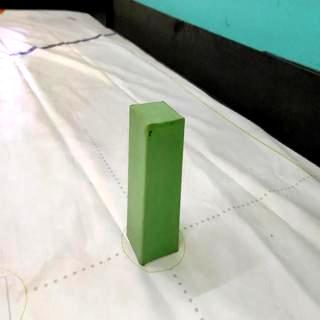greenbox: (126, 100, 186, 266)
